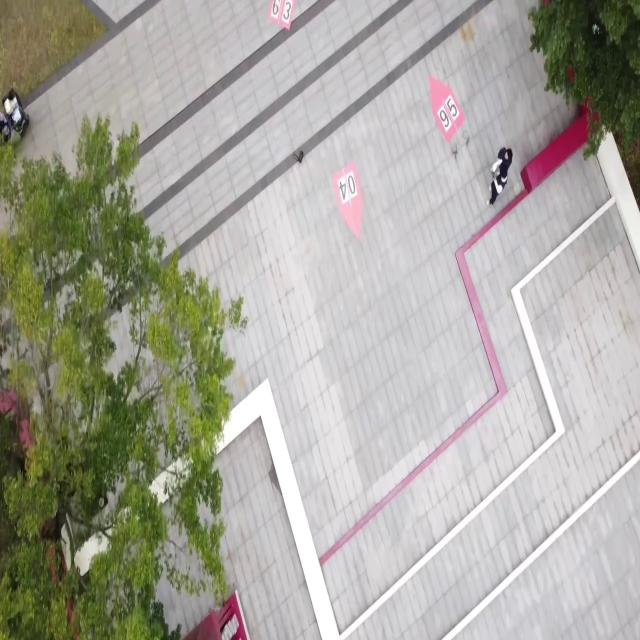-sign-: (318, 165, 376, 239), (417, 78, 474, 139)
